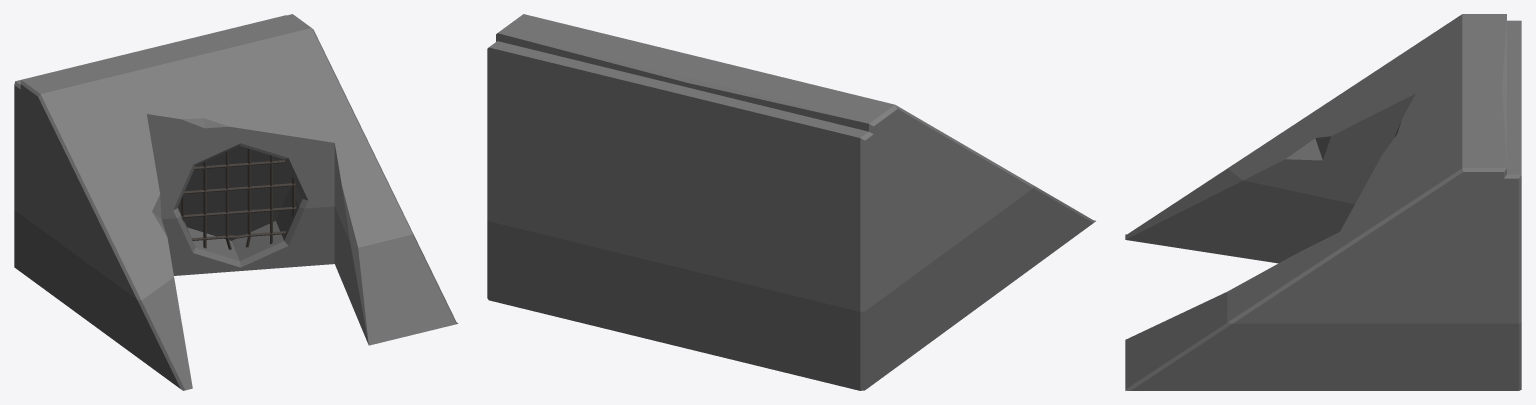
The model's file is SM_Envr_Canal_Discharge_03.fbx.
3 views of the same model, side by side, from view 1: azimuth 30°, elevation 25°; view 2: azimuth 150°, elevation 25°; view 3: azimuth 270°, elevation 25° (orthographic). The views are drawn at different scales.
Visible parts, largest first — view 1: SM_Envr_Canal_Discharge_03; view 2: SM_Envr_Canal_Discharge_03; view 3: SM_Envr_Canal_Discharge_03.
Part boxes in pixels (x1=…): SM_Envr_Canal_Discharge_03: x1=14, y1=14, x2=458, y2=390; SM_Envr_Canal_Discharge_03: x1=487, y1=14, x2=1095, y2=390; SM_Envr_Canal_Discharge_03: x1=1125, y1=14, x2=1521, y2=390.
Bounding box in the file's own units: 500 × 330 × 535.
